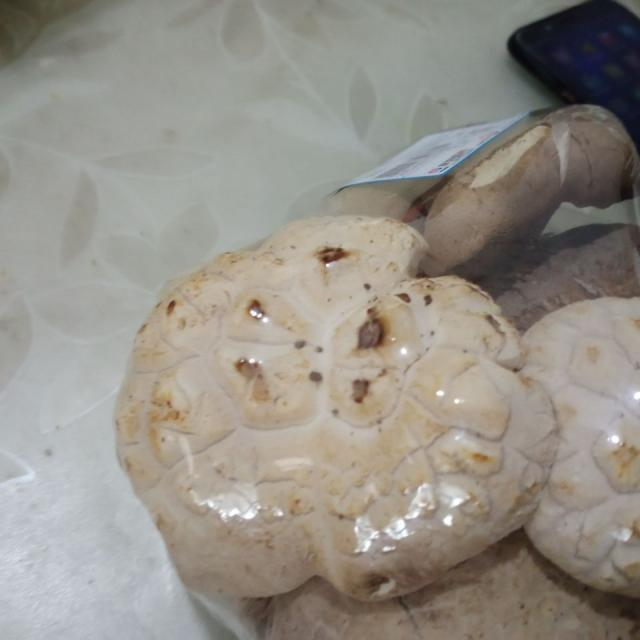Pleurotus cystidiosus: (122, 212, 560, 600), (521, 292, 640, 602)
